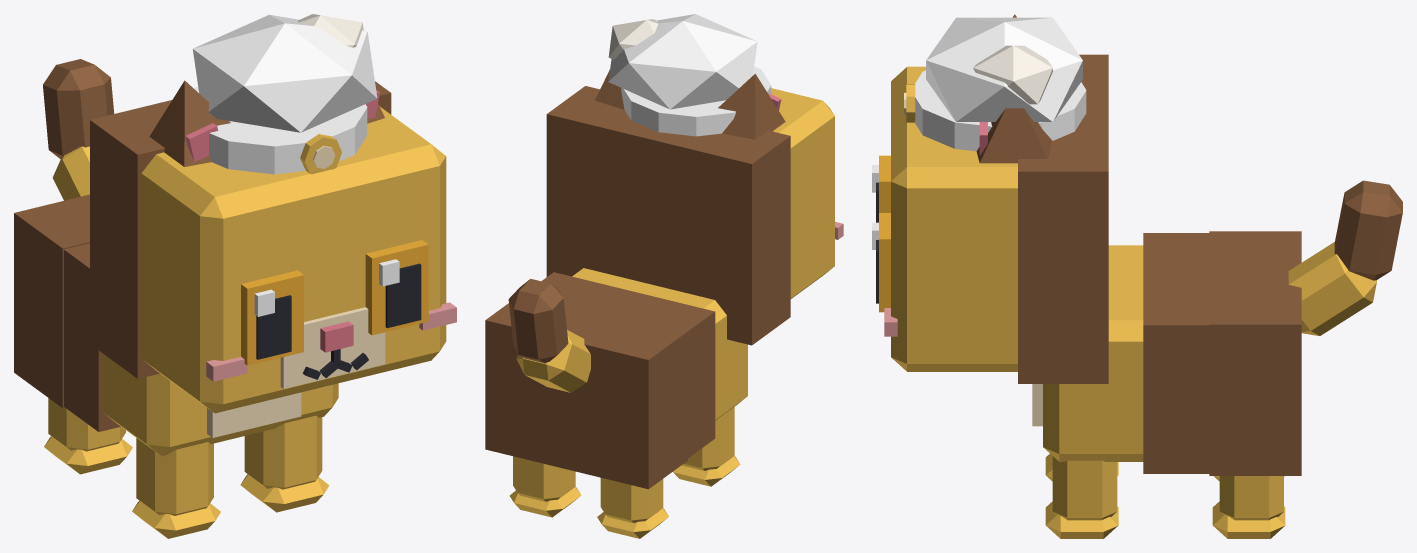
The model's file is CatCafe_Cat_Crumpet.fbx.
3 renders of one model, left to right at view 1: azimuth 30°, elevation 25°; view 2: azimuth 150°, elevation 25°; view 3: azimuth 270°, elevation 25°, orthographic. The views are drawn at different scales.
Parts seen in each view (by area): view 1: CatCafe_Cat_Crumpet_Head, CatCafe_Cat_Crumpet_Body, CatCafe_Cat_Crumpet_Prop, CatCafe_Cat_Crumpet_LegF2, CatCafe_Cat_Crumpet_Tail, CatCafe_Cat_Crumpet_LegF1, CatCafe_Cat_Crumpet_Eye1, CatCafe_Cat_Crumpet_Eye2, CatCafe_Cat_Crumpet_LegB2, CatCafe_Cat_Crumpet_EarR; view 2: CatCafe_Cat_Crumpet_Head, CatCafe_Cat_Crumpet_Body, CatCafe_Cat_Crumpet_Prop, CatCafe_Cat_Crumpet_Tail, CatCafe_Cat_Crumpet_LegB2, CatCafe_Cat_Crumpet_LegB1, CatCafe_Cat_Crumpet_EarR, CatCafe_Cat_Crumpet_LegF2, CatCafe_Cat_Crumpet_EarL; view 3: CatCafe_Cat_Crumpet_Head, CatCafe_Cat_Crumpet_Body, CatCafe_Cat_Crumpet_Prop, CatCafe_Cat_Crumpet_Tail, CatCafe_Cat_Crumpet_LegF1, CatCafe_Cat_Crumpet_LegB1, CatCafe_Cat_Crumpet_EarL, CatCafe_Cat_Crumpet_Eye1, CatCafe_Cat_Crumpet_Eye2.
Part boxes in pixels (x1,y1,x2,y2): CatCafe_Cat_Crumpet_Head: [90, 81, 456, 413]; CatCafe_Cat_Crumpet_Body: [14, 194, 338, 456]; CatCafe_Cat_Crumpet_Prop: [192, 14, 377, 174]; CatCafe_Cat_Crumpet_LegF2: [132, 438, 220, 538]; CatCafe_Cat_Crumpet_Tail: [43, 59, 114, 200]; CatCafe_Cat_Crumpet_LegF1: [240, 415, 329, 512]; CatCafe_Cat_Crumpet_Eye1: [365, 240, 428, 335]; CatCafe_Cat_Crumpet_Eye2: [241, 270, 303, 365]; CatCafe_Cat_Crumpet_LegB2: [44, 398, 132, 474]; CatCafe_Cat_Crumpet_EarR: [149, 80, 230, 166]; CatCafe_Cat_Crumpet_Head: [546, 86, 843, 345]; CatCafe_Cat_Crumpet_Body: [485, 268, 747, 489]; CatCafe_Cat_Crumpet_Prop: [608, 14, 771, 136]; CatCafe_Cat_Crumpet_Tail: [508, 279, 590, 392]; CatCafe_Cat_Crumpet_LegB2: [597, 478, 668, 538]; CatCafe_Cat_Crumpet_LegB1: [509, 456, 581, 517]; CatCafe_Cat_Crumpet_EarR: [718, 73, 785, 139]; CatCafe_Cat_Crumpet_LegF2: [673, 407, 740, 486]; CatCafe_Cat_Crumpet_EarL: [595, 69, 624, 109]; CatCafe_Cat_Crumpet_Head: [884, 54, 1108, 383]; CatCafe_Cat_Crumpet_Body: [1032, 231, 1301, 475]; CatCafe_Cat_Crumpet_Prop: [904, 17, 1086, 151]; CatCafe_Cat_Crumpet_Tail: [1288, 180, 1402, 335]; CatCafe_Cat_Crumpet_LegF1: [1045, 456, 1118, 538]; CatCafe_Cat_Crumpet_LegB1: [1212, 476, 1285, 538]; CatCafe_Cat_Crumpet_EarL: [976, 108, 1052, 163]; CatCafe_Cat_Crumpet_Eye1: [872, 213, 890, 312]; CatCafe_Cat_Crumpet_Eye2: [872, 155, 890, 222].
Bounding box in the file's own units: 1.03 × 2 × 1.97.
1 material, 1 textured.
